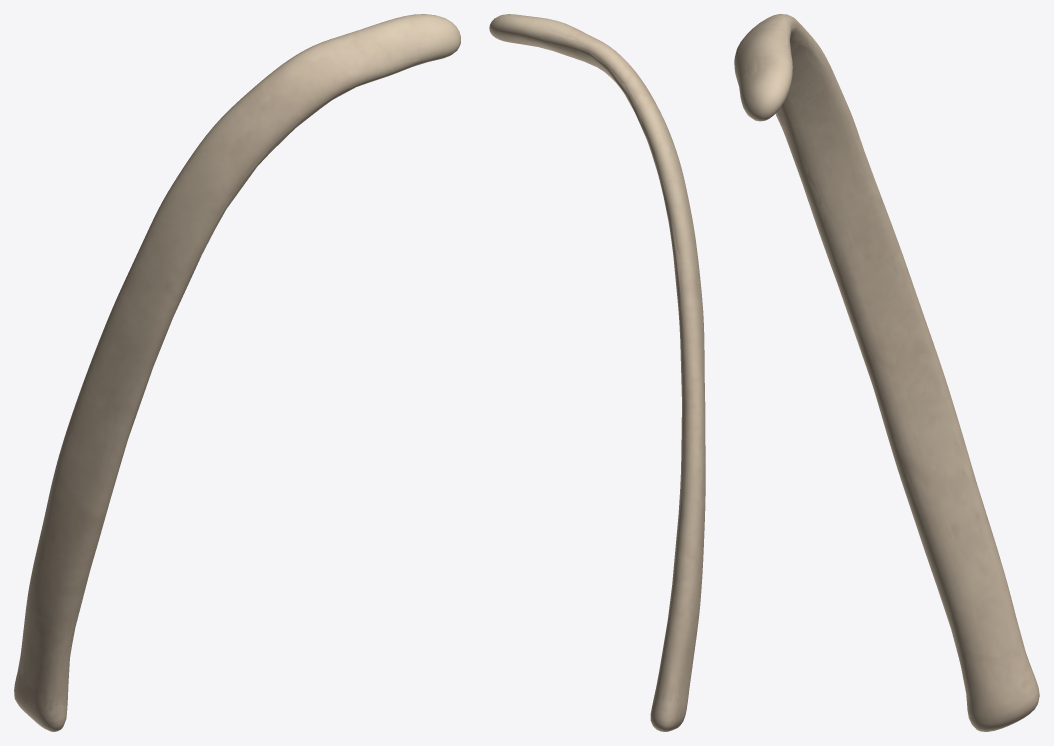
Rendered from Rib R05.fbx.
3 renders of one model, left to right at view 1: azimuth 30°, elevation 25°; view 2: azimuth 150°, elevation 25°; view 3: azimuth 270°, elevation 25°, orthographic. The views are drawn at different scales.
Visible parts, largest first — view 1: Rib R05 high, Rib R05, Rib R05 low; view 2: Rib R05 high, Rib R05, Rib R05 low; view 3: Rib R05 low, Rib R05, Rib R05 high.
Boxes of the visible parts, box(x1,y1,x2,y2) form: Rib R05 high: box(14, 14, 460, 728); Rib R05: box(14, 14, 460, 731); Rib R05 low: box(18, 27, 436, 706); Rib R05 high: box(490, 14, 705, 731); Rib R05: box(489, 14, 705, 731); Rib R05 low: box(524, 30, 690, 701); Rib R05 low: box(737, 25, 1030, 705); Rib R05: box(734, 14, 1039, 731); Rib R05 high: box(734, 15, 1039, 731).
Bounding box in the file's own units: 10.94 × 22.43 × 7.54.
